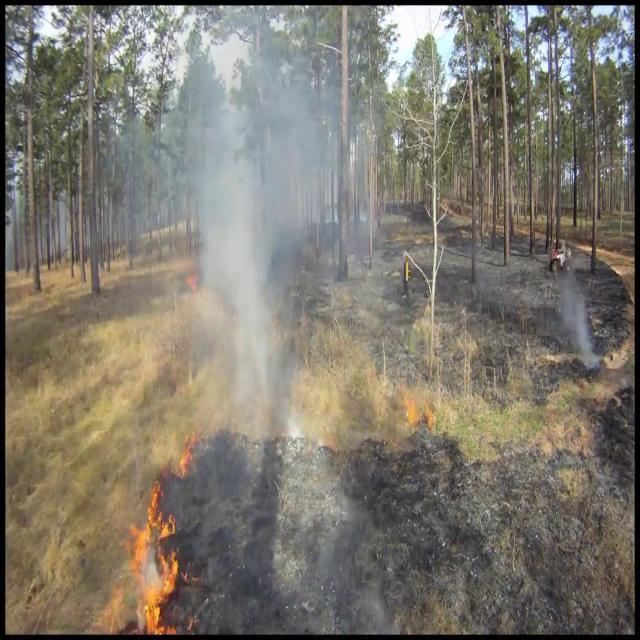Fire: (111, 482, 190, 634)
Smoke: (114, 10, 372, 418), (524, 254, 598, 365)
